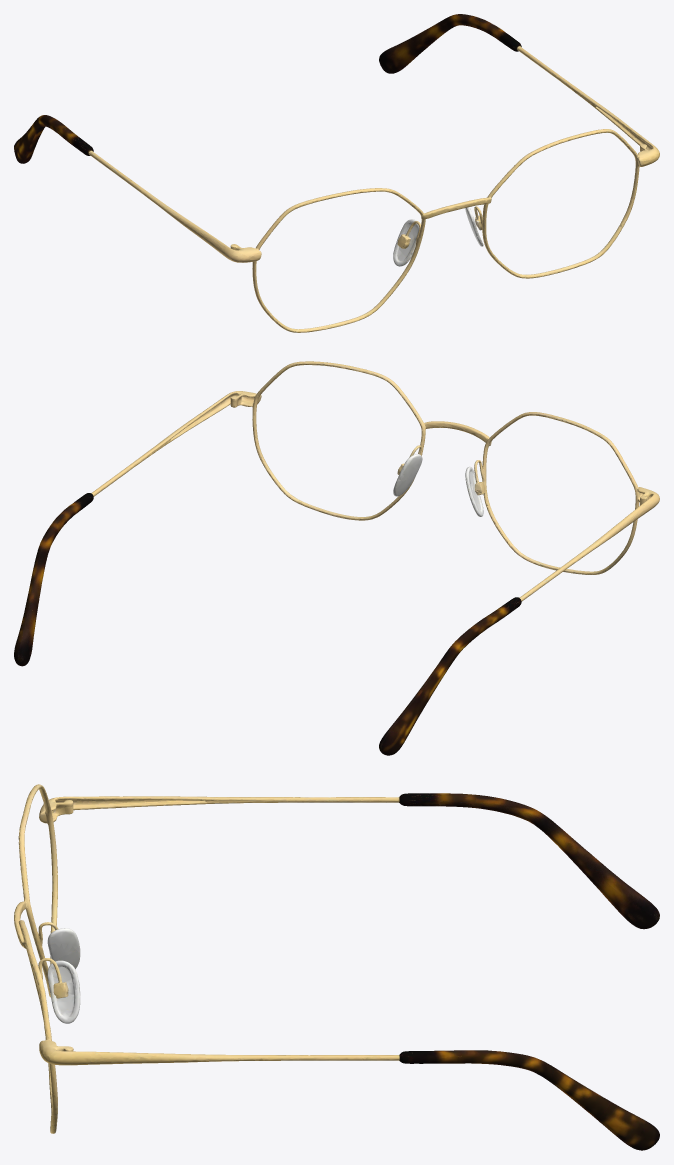
The model's file is gold-glasses.glb.
The picture shows the model from 3 angles, top to bottom: view 1: azimuth 30°, elevation 25°; view 2: azimuth 150°, elevation 25°; view 3: azimuth 270°, elevation 25°; orthographic projection. The views are drawn at different scales.
Visible parts, largest first — view 1: Mesh_0; view 2: Mesh_0; view 3: Mesh_0.
Boxes of the visible parts, bbox=[...] form: Mesh_0: bbox=[14, 14, 659, 332]; Mesh_0: bbox=[14, 361, 659, 755]; Mesh_0: bbox=[14, 784, 659, 1150].
Size of the model in its own units: 0.9631 by 0.3013 by 1.
Materials: 1 (1 with a texture image).
